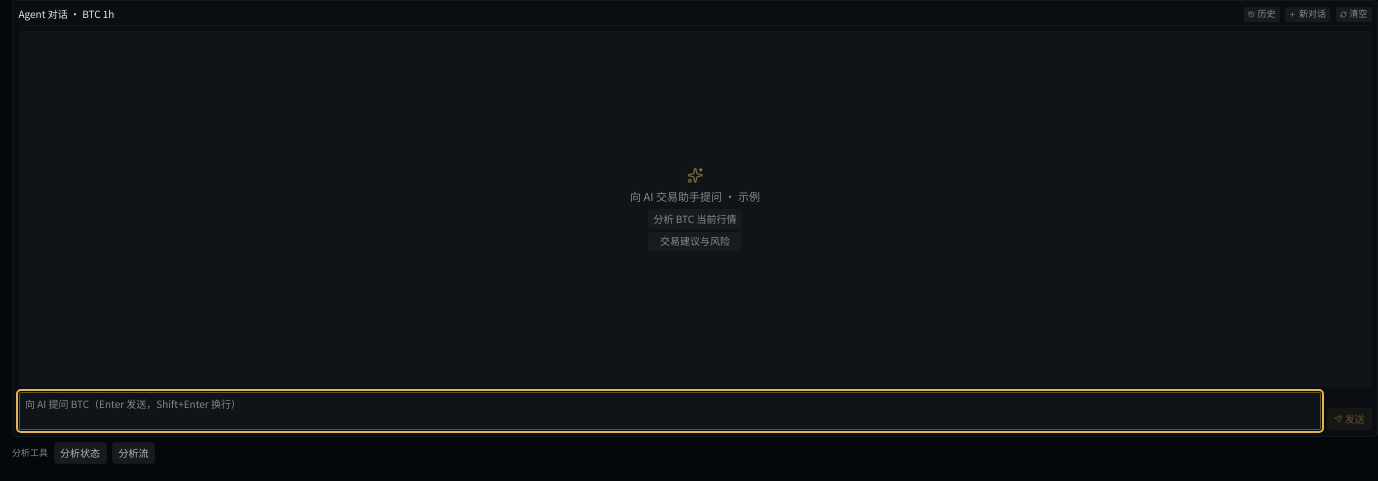
Test: AgentChatPage — B0 确认门(page 面曾漏,须与 FAB 面同源) › 推理链按后端契约字段渲染(name/arguments/output,非 tool/args/result)
In the text box with placeholder "向 AI 提问 BTC（Enter 发送，Shift+Enter 换行）": (670, 411) [18, 392, 1321, 430], type "部署 bb_v3"
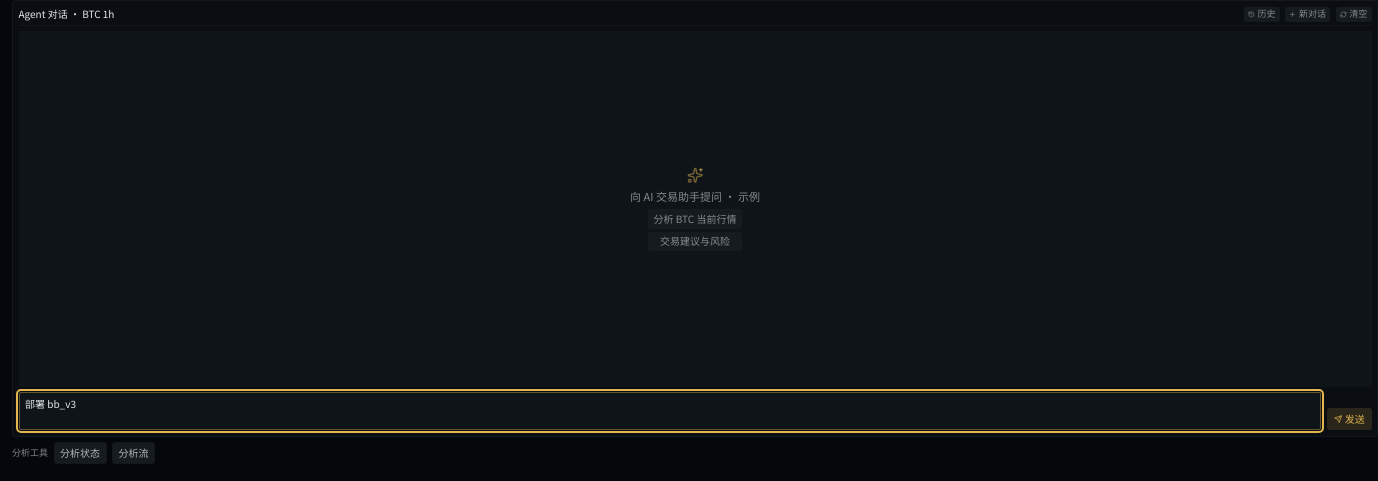
Click the button "发送": (1349, 419) [1327, 408, 1372, 430]
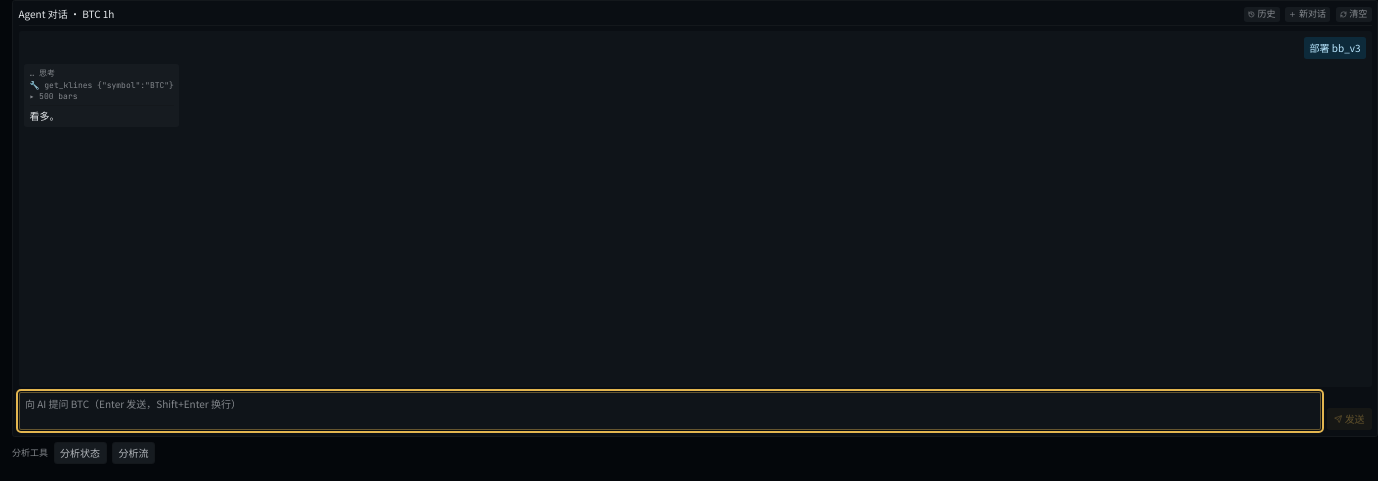
Result: the text "🔧 get_klines {\"symbol\":\"BTC\"}" is shown at [30, 80, 174, 91]
Result: the text "▸ 500 bars" is shown at [30, 91, 78, 101]
